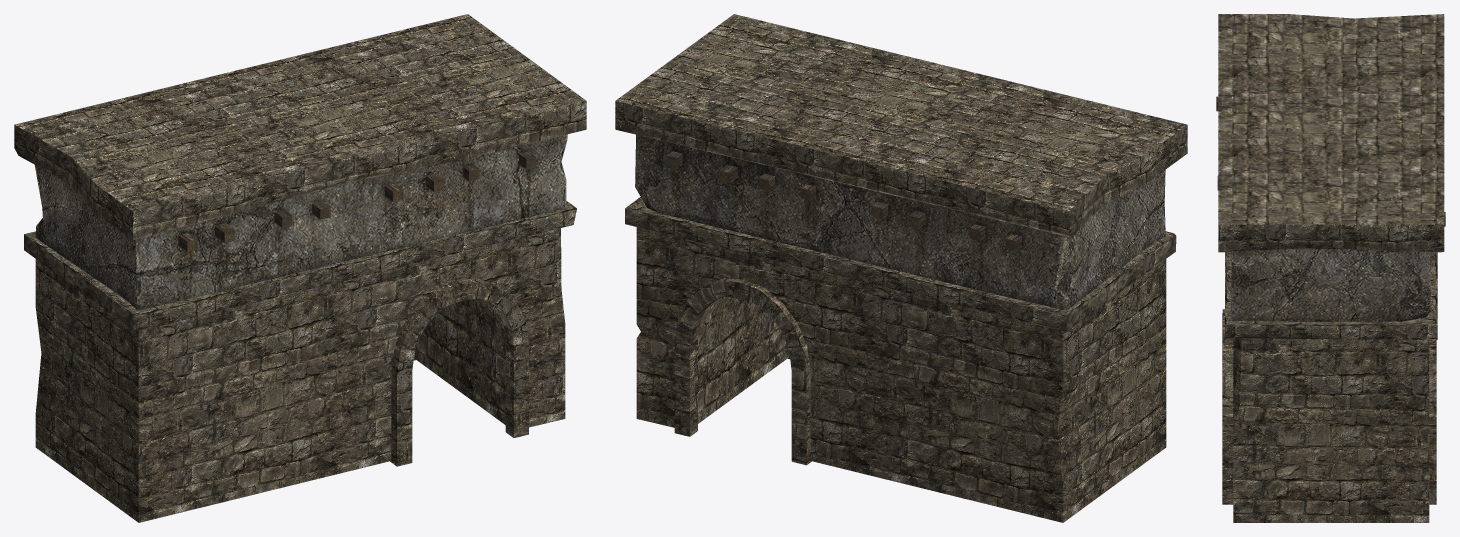
The model's file is Ruins_12_LOD1.fbx.
The picture shows the model from 3 angles, left to right: view 1: azimuth 30°, elevation 25°; view 2: azimuth 150°, elevation 25°; view 3: azimuth 270°, elevation 25°; orthographic projection. The views are drawn at different scales.
Parts seen in each view (by area): view 1: polySurface4731; view 2: polySurface4731; view 3: polySurface4731.
Boxes of the visible parts, bbox=[...] form: polySurface4731: bbox=[14, 14, 586, 522]; polySurface4731: bbox=[615, 14, 1187, 522]; polySurface4731: bbox=[1216, 14, 1445, 522].
Size of the model in its own units: 11.4 by 7.73 by 5.25.
